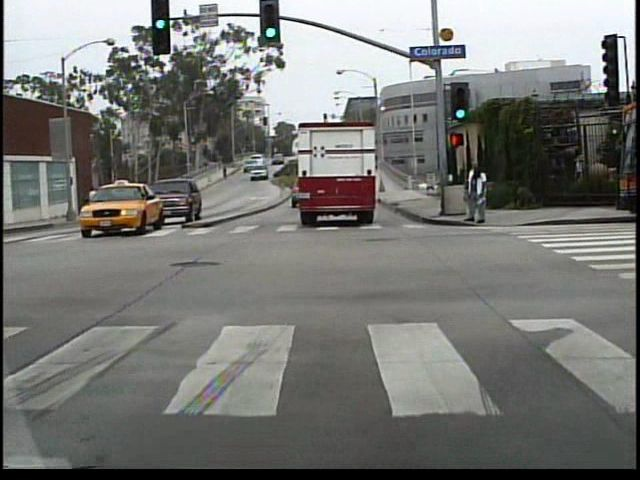person: (463, 161, 489, 226)
